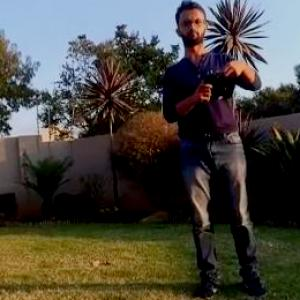follow: (158, 0, 274, 299)
